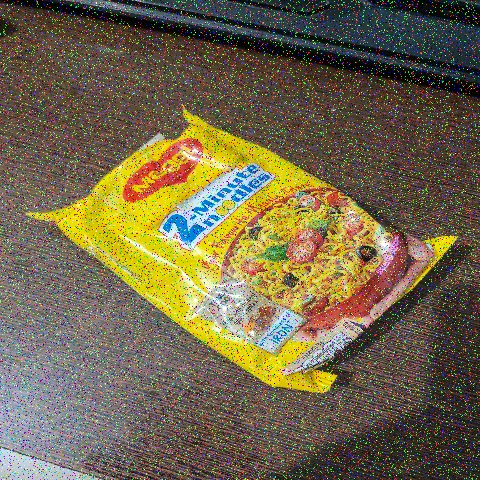maggi: (30, 94, 406, 386)
